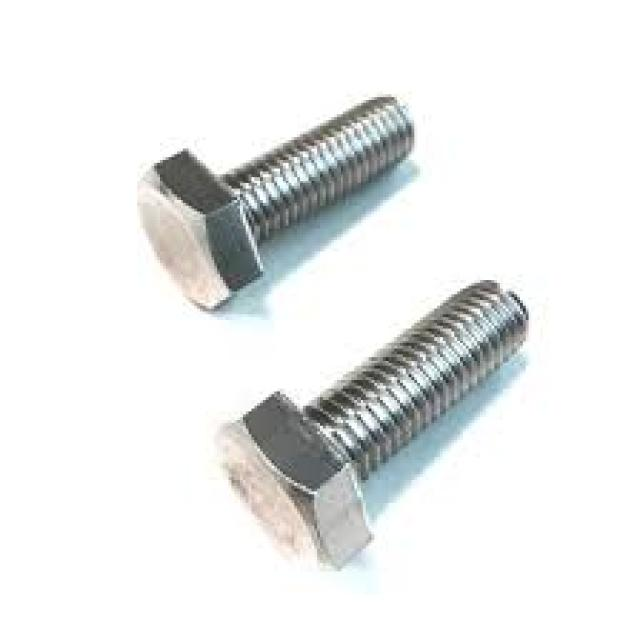metal: (220, 277, 529, 569), (129, 94, 414, 309)
